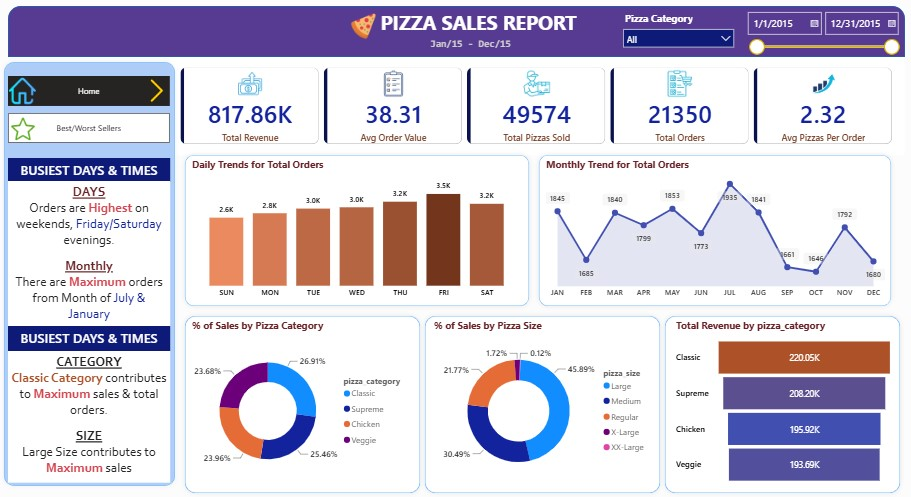

The dashboard page shown, as its layout file describes it:
{"tool":"powerbi","page":{"name":"Home","canvas":[1500,820],"ordinal":0},"visuals":[{"type":"cardVisual","fields":{"Data":["pizza db pizza_sales.Total Revenue","pizza db pizza_sales.Avg Order Value","pizza db pizza_sales.Total Pizzas Sold","pizza db pizza_sales.Total Orders","pizza db pizza_sales.Avg Pizzas Per Order"]},"box":[280.4,96.8,1205.4,160.7],"z":0},{"type":"shape","box":[0,96.8,296.8,711.8],"z":1000},{"type":"shape","box":[14.8,13.1,1471.1,83.6],"z":2000},{"type":"textbox","box":[606.8,13.1,359.2,83.6],"z":3000},{"type":"textbox","box":[698.6,60.7,149.2,36.1],"z":4000},{"type":"image","box":[575.6,24.6,44.3,42.6],"z":5000},{"type":"shape","box":[296.8,249.3,580.6,264],"z":6000},{"type":"columnChart","title":"Daily Trends for Total Orders","fields":{"Category":["pizza db pizza_sales.Order Day"],"Y":["pizza db pizza_sales.Total Orders"]},"box":[311.6,262.4,551,239.4],"z":7000},{"type":"shape","box":[877.4,249.3,593.7,264],"z":8000},{"type":"areaChart","title":"Monthly Trend for Total Orders","fields":{"Category":["pizza db pizza_sales.Order Month"],"Y":["pizza db pizza_sales.Total Orders"]},"box":[892.2,262.4,565.8,239.4],"z":9000},{"type":"shape","box":[296.8,513.3,401.8,306.7],"z":10000},{"type":"shape","box":[690.4,513.3,401.8,306.7],"z":11000},{"type":"shape","box":[1084,513.3,401.8,306.7],"z":12000},{"type":"donutChart","title":"% of Sales by Pizza Category","fields":{"Category":["pizza db pizza_sales.pizza_category"],"Y":["pizza db pizza_sales.Total Revenue"]},"box":[311.6,526.4,367.4,280.4],"z":13000},{"type":"donutChart","title":"% of Sales by Pizza Size","fields":{"Category":["pizza db pizza_sales.pizza_size"],"Y":["pizza db pizza_sales.Total Revenue"]},"box":[708.5,526.4,367.4,280.4],"z":14000},{"type":"funnel","fields":{"Category":["pizza db pizza_sales.pizza_category"],"Y":["pizza db pizza_sales.Total Revenue"]},"box":[1105.4,526.4,365.7,280.4],"z":15000},{"type":"textbox","box":[14.8,262.4,265.7,37.7],"z":16000},{"type":"textbox","box":[14.8,300.1,265.7,237.8],"z":17000},{"type":"textbox","box":[14.8,537.9,265.7,41],"z":18000},{"type":"textbox","box":[14.8,578.9,265.7,216.5],"z":19000},{"type":"slicer","fields":{"Values":["pizza db pizza_sales.pizza_category"]},"box":[1013.5,18,201.7,83.6],"z":20000},{"type":"slicer","fields":{"Values":["pizza db pizza_sales.order_date"]},"box":[1215.2,13.1,270.6,95.1],"z":21000},{"type":"pageNavigator","box":[14.8,127.9,265.7,49.2],"z":22000},{"type":"pageNavigator","box":[14.8,188.6,265.7,49.2],"z":23000},{"type":"image","box":[237.8,132.8,42.6,37.7],"z":24000},{"type":"image","box":[16.4,127.9,44.3,49.2],"z":25000},{"type":"image","box":[9.8,195.2,59,39.4],"z":26000}]}

Visuals, with their boxes in screenshot pixels (x1, y1, x2, y2), scaled from the page's 1500x820 canvas onto the 911x497 screenshot:
cardVisual - pizza db pizza_sales.Total Revenue x pizza db pizza_sales.Avg Order Value: bbox=(170, 59, 902, 156)
shape: bbox=(0, 59, 180, 490)
shape: bbox=(9, 8, 902, 59)
textbox: bbox=(369, 8, 587, 59)
textbox: bbox=(424, 37, 515, 59)
image: bbox=(350, 15, 376, 41)
shape: bbox=(180, 151, 533, 311)
"Daily Trends for Total Orders" columnChart: bbox=(189, 159, 524, 304)
shape: bbox=(533, 151, 893, 311)
"Monthly Trend for Total Orders" areaChart: bbox=(542, 159, 885, 304)
shape: bbox=(180, 311, 424, 496)
shape: bbox=(419, 311, 663, 496)
shape: bbox=(658, 311, 902, 496)
"% of Sales by Pizza Category" donutChart: bbox=(189, 319, 412, 489)
"% of Sales by Pizza Size" donutChart: bbox=(430, 319, 653, 489)
funnel - pizza db pizza_sales.pizza_category x pizza db pizza_sales.Total Revenue: bbox=(671, 319, 893, 489)
textbox: bbox=(9, 159, 170, 182)
textbox: bbox=(9, 182, 170, 326)
textbox: bbox=(9, 326, 170, 351)
textbox: bbox=(9, 351, 170, 482)
slicer - pizza db pizza_sales.pizza_category: bbox=(616, 11, 738, 62)
slicer - pizza db pizza_sales.order_date: bbox=(738, 8, 902, 66)
pageNavigator: bbox=(9, 78, 170, 107)
pageNavigator: bbox=(9, 114, 170, 144)
image: bbox=(144, 80, 170, 103)
image: bbox=(10, 78, 37, 107)
image: bbox=(6, 118, 42, 142)
